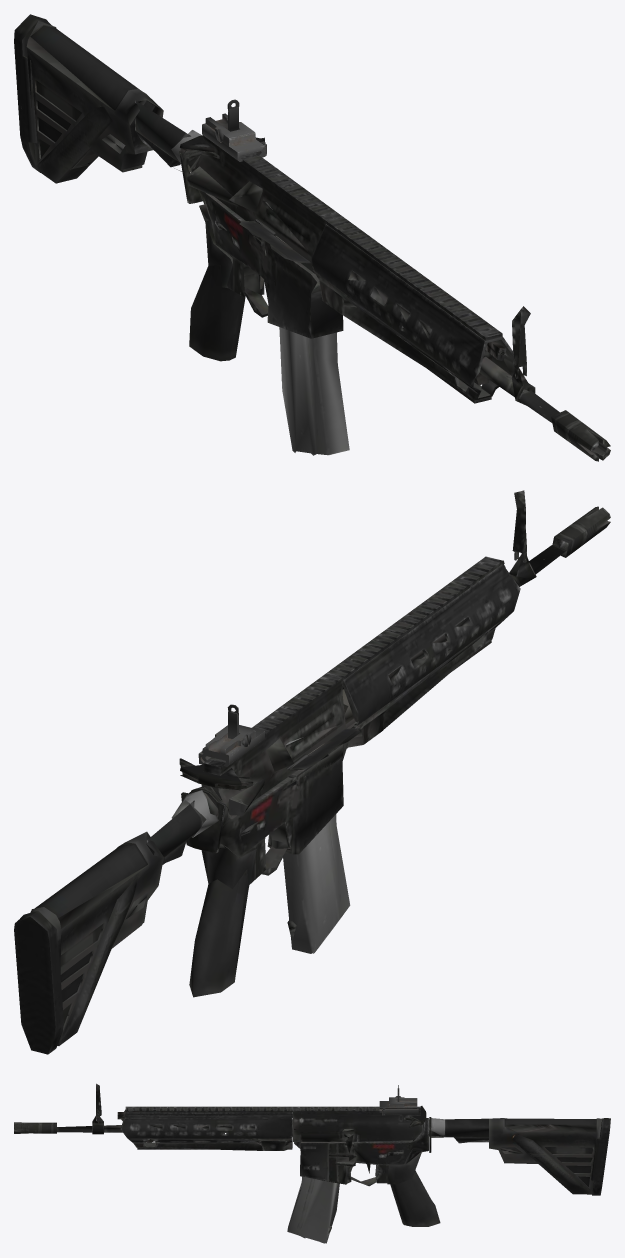
The model's file is rifle.glb.
3 views of the same model, one above another, from view 1: azimuth 30°, elevation 25°; view 2: azimuth 150°, elevation 25°; view 3: azimuth 270°, elevation 25° (orthographic). The views are drawn at different scales.
Bounding box in the file's own units: 0.1099 × 0.3936 × 1.35.
Materials: 2 (2 with a texture image).
